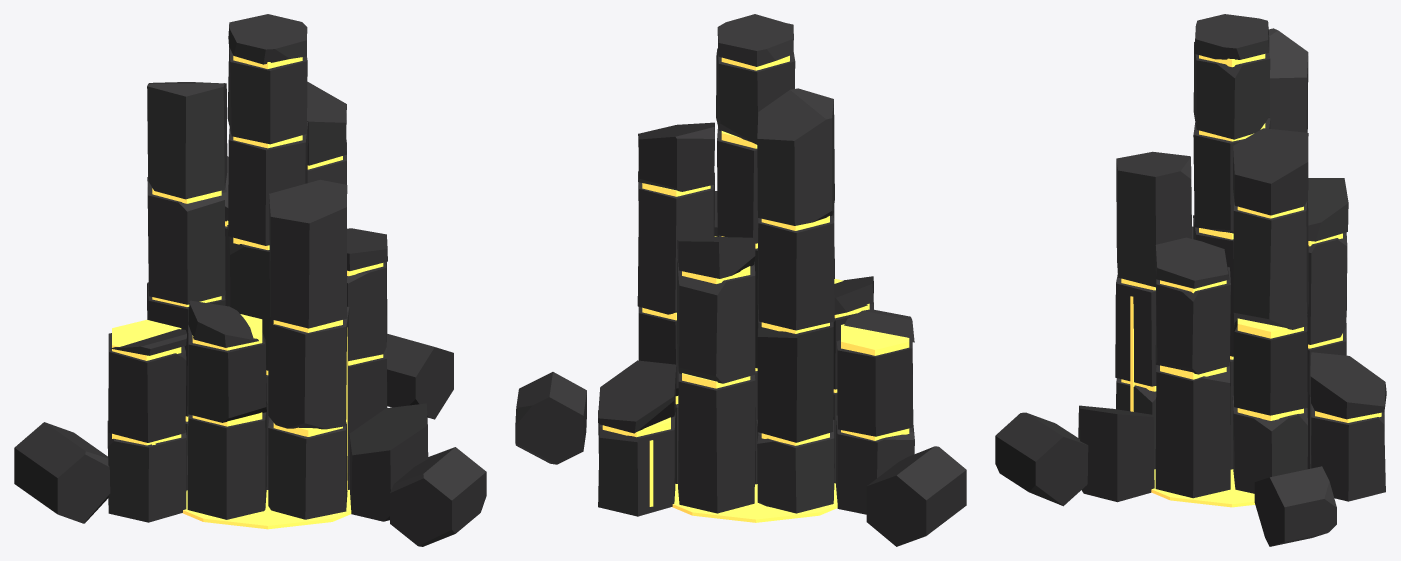
Rendered from basalt_column.glb.
3 views of the same model, side by side, from view 1: azimuth 30°, elevation 25°; view 2: azimuth 150°, elevation 25°; view 3: azimuth 270°, elevation 25° (orthographic). The views are drawn at different scales.
Visible parts, largest first — view 1: basalt_column; view 2: basalt_column; view 3: basalt_column.
Part boxes in pixels (x1,y1,x2,y2): basalt_column: (14,14,486,546); basalt_column: (515,14,966,546); basalt_column: (995,14,1386,546).
Size of what is drawn, in the model's own units: 3.98 by 4 by 3.3.
